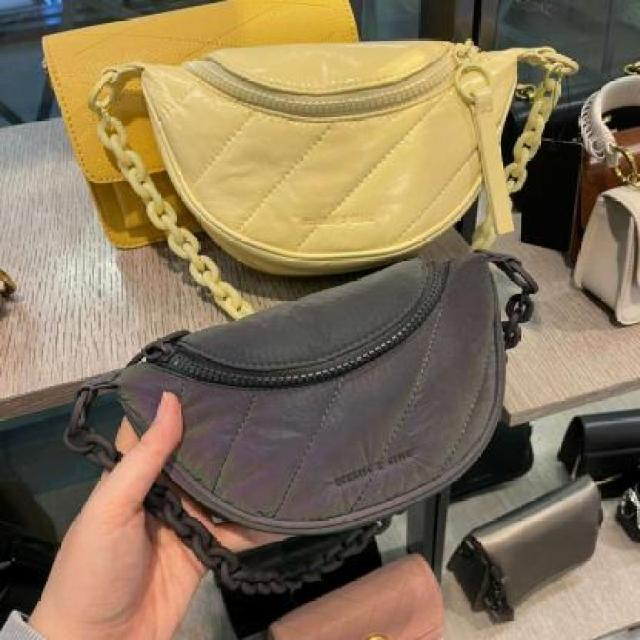Bag: (8, 244, 635, 587), (62, 18, 572, 305)
